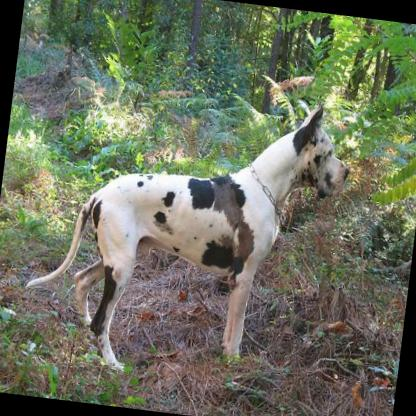Great_Dane: (13, 66, 356, 393)
